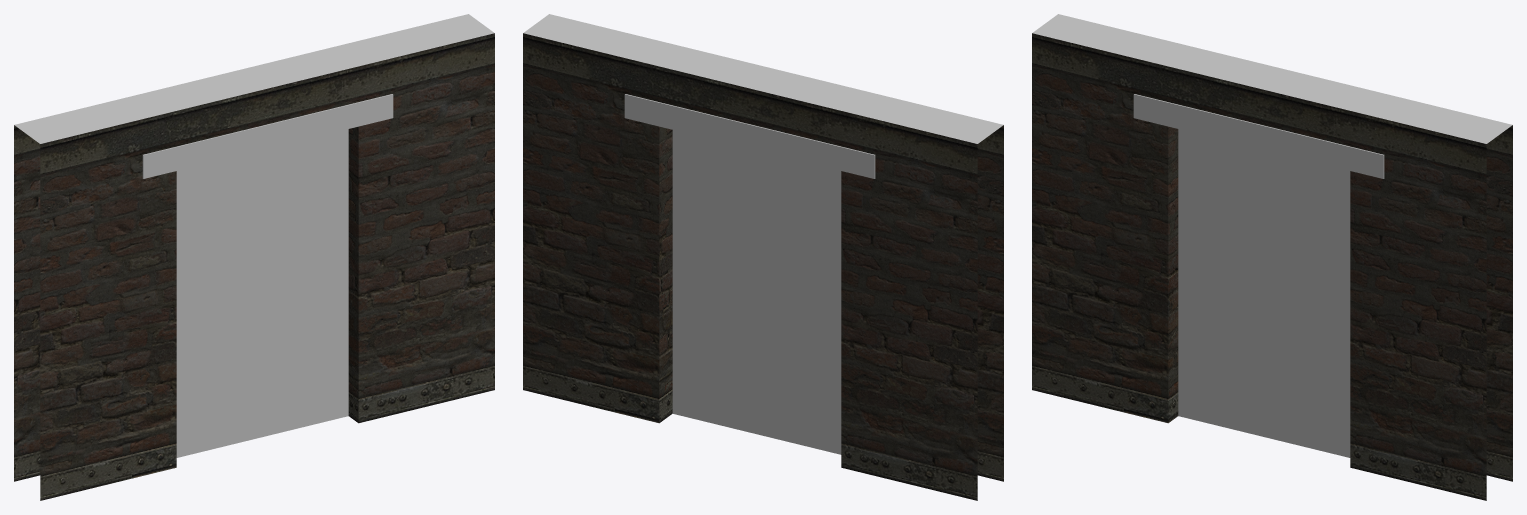
File: doorway_hr_1_wide.fbx
3 renders of one model, left to right at view 1: azimuth 30°, elevation 25°; view 2: azimuth 150°, elevation 25°; view 3: azimuth 330°, elevation 25°, orthographic.
Parts seen in each view (by area): view 1: doorway_hr_1_wide, door_hm_1_piece_2, door_hm_1_piece_1; view 2: doorway_hr_1_wide, door_hm_1_piece_2, door_hm_1_piece_1; view 3: doorway_hr_1_wide, door_hm_1_piece_2, door_hm_1_piece_1.
Part boxes in pixels (bbox=[...]): doorway_hr_1_wide: bbox=[14, 14, 494, 500]; door_hm_1_piece_2: bbox=[235, 129, 348, 443]; door_hm_1_piece_1: bbox=[176, 157, 234, 457]; doorway_hr_1_wide: bbox=[523, 14, 1003, 500]; door_hm_1_piece_2: bbox=[672, 130, 786, 441]; door_hm_1_piece_1: bbox=[786, 157, 841, 454]; doorway_hr_1_wide: bbox=[1032, 14, 1512, 500]; door_hm_1_piece_2: bbox=[1246, 145, 1350, 457]; door_hm_1_piece_1: bbox=[1178, 129, 1246, 432].
Size of the model in its own units: 4 by 0.42 by 3.
